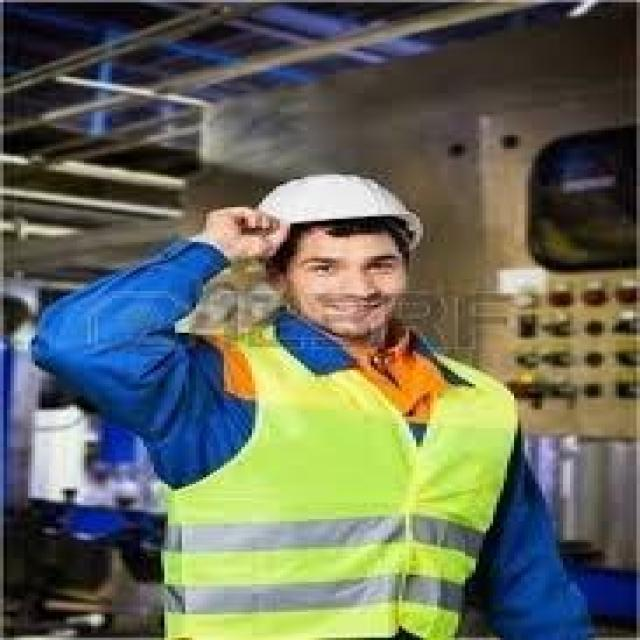helmet: (240, 164, 426, 254)
vest: (154, 320, 532, 640)
